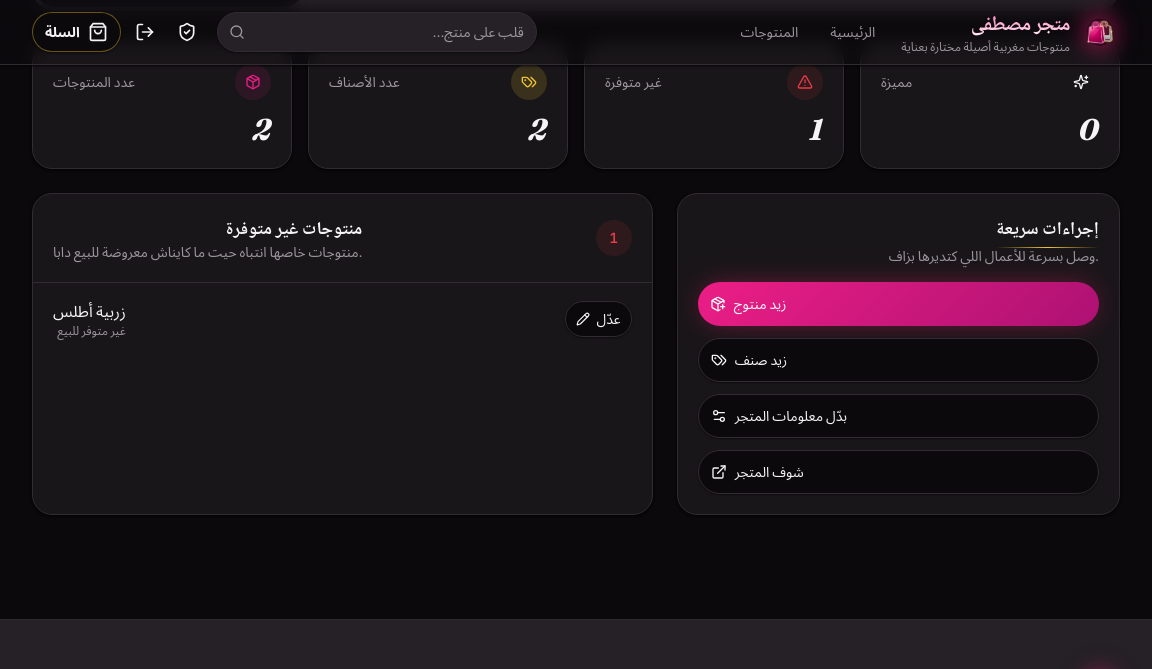
Test: admin overview tab › jumps to the categories tab from the quick actions
This screenshot has width=1152, height=669.
(page scrolled)
Click the button "زيد صنف".
click(761, 360)  # box [698,338,1099,382]
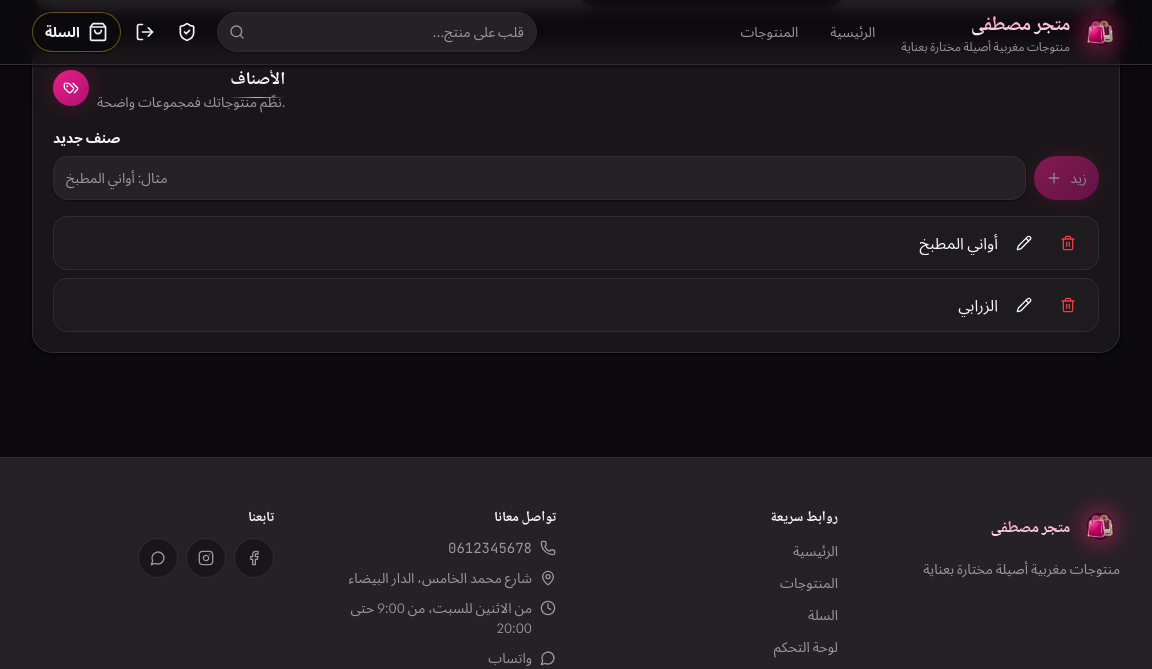
Result: the field labelled "صنف جديد" is shown at [53,156,1026,200]
